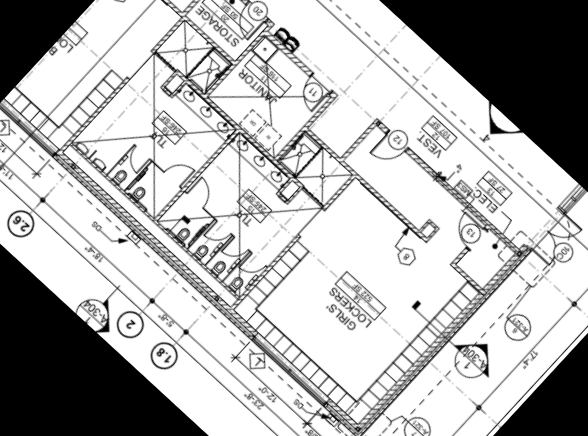door: (349, 248, 523, 435), (198, 14, 279, 100), (363, 129, 409, 174), (226, 1, 269, 44), (183, 174, 221, 212), (160, 153, 197, 189), (120, 142, 154, 177), (234, 251, 268, 285), (218, 233, 251, 267), (201, 218, 233, 251)
double door: (530, 212, 584, 268)
wall: (52, 144, 262, 338), (67, 140, 243, 303), (172, 67, 308, 194), (301, 124, 433, 247), (401, 137, 532, 260), (150, 126, 242, 224), (125, 0, 239, 66), (55, 69, 137, 156), (225, 227, 306, 313), (272, 85, 346, 164), (256, 22, 319, 82), (288, 64, 339, 116), (338, 115, 384, 164), (145, 15, 188, 60), (444, 257, 489, 299), (316, 170, 358, 215), (323, 394, 366, 435), (179, 0, 222, 19), (445, 244, 472, 272)
